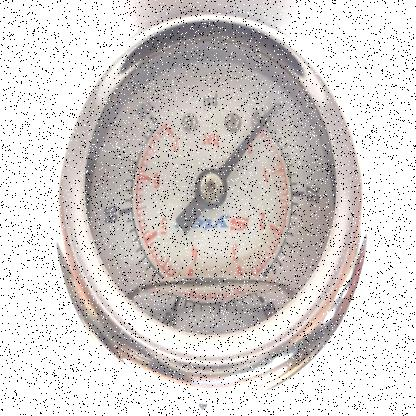needle: (218, 104, 278, 181)
